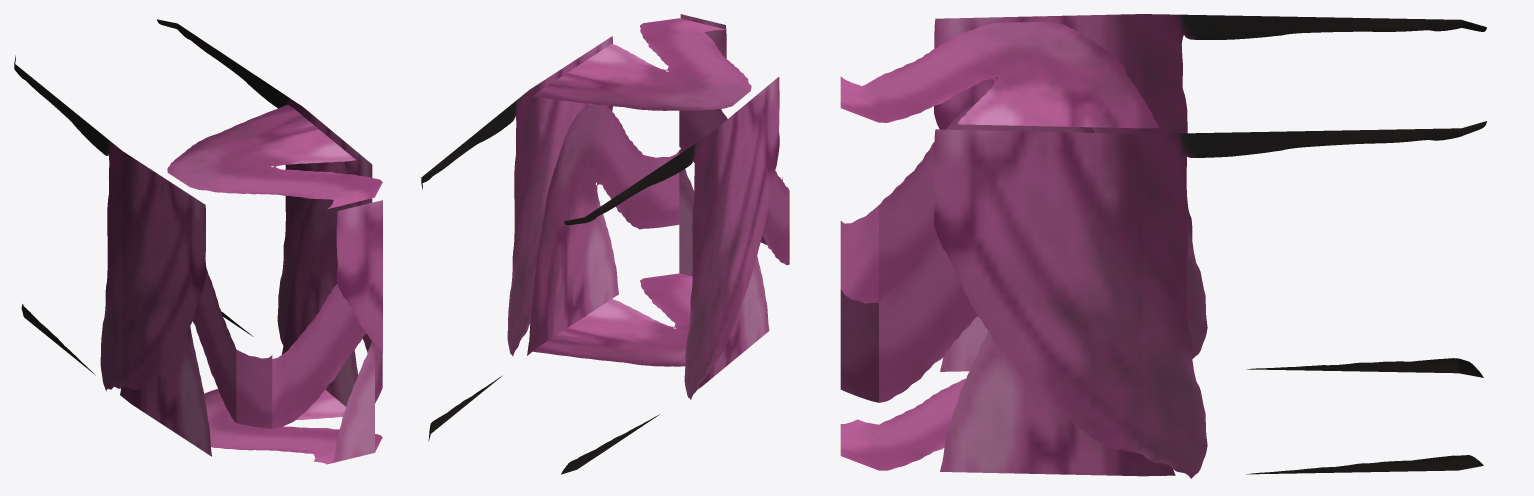
The model's file is keep-i2-model.obj.
3 renders of one model, left to right at view 1: azimuth 30°, elevation 25°; view 2: azimuth 150°, elevation 25°; view 3: azimuth 270°, elevation 25°, orthographic. The views are drawn at different scales.
Size of the model in its own units: 0.7406 by 1 by 1.8.
